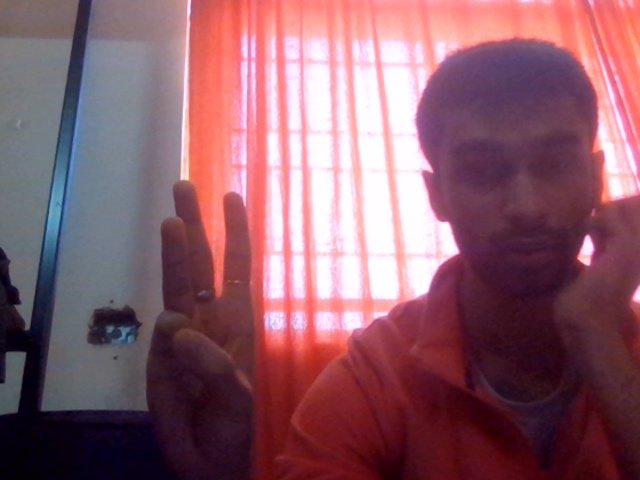W: (112, 177, 346, 480)
